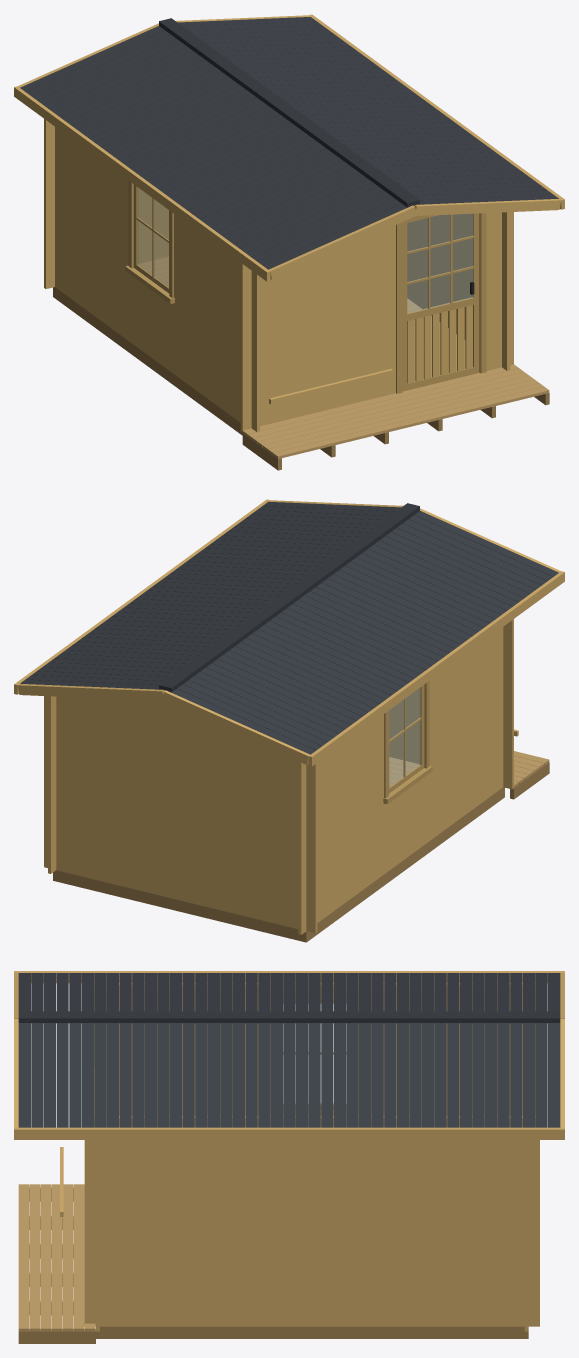
Rendered from томас_3_4_34_мм_терраса_с_лавочкой.glb.
3 views of the same model, one above another, from view 1: azimuth 30°, elevation 25°; view 2: azimuth 150°, elevation 25°; view 3: azimuth 270°, elevation 25° (orthographic). The views are drawn at different scales.
Visible parts, largest first — view 1: roof, walls, deck, object 15, Томас 3×4 (34 мм, терраса с лавочкой), object 28, object 21, object 3, object 22, floor, object 2, object 6 (+2 smaller); view 2: roof, walls, Томас 3×4 (34 мм, терраса с лавочкой), object 28, deck; view 3: roof, walls, deck, Томас 3×4 (34 мм, терраса с лавочкой).
Part boxes in pixels (left/top/right/bottom): roof: left=14, top=14, right=564, bottom=281; walls: left=44, top=119, right=513, bottom=432; deck: left=242, top=364, right=549, bottom=458; object 15: left=407, top=214, right=473, bottom=313; Томас 3×4 (34 мм, терраса с лавочкой): left=53, top=287, right=549, bottom=470; object 28: left=137, top=187, right=168, bottom=287; object 21: left=396, top=222, right=402, bottom=393; object 3: left=472, top=213, right=479, bottom=373; object 22: left=480, top=213, right=486, bottom=373; floor: left=139, top=256, right=465, bottom=380; object 2: left=402, top=220, right=407, bottom=391; object 6: left=403, top=297, right=473, bottom=321; roof: left=14, top=499, right=564, bottom=766; walls: left=44, top=619, right=518, bottom=934; Томас 3×4 (34 мм, терраса с лавочкой): left=53, top=762, right=549, bottom=942; object 28: left=389, top=688, right=420, bottom=787; deck: left=514, top=751, right=549, bottom=787; roof: left=14, top=971, right=564, bottom=1139; walls: left=60, top=983, right=539, bottom=1331; deck: left=18, top=1184, right=95, bottom=1331; Томас 3×4 (34 мм, терраса с лавочкой): left=18, top=1187, right=528, bottom=1343.
Size of the model in its own units: 3.3 by 2.49 by 4.84.
